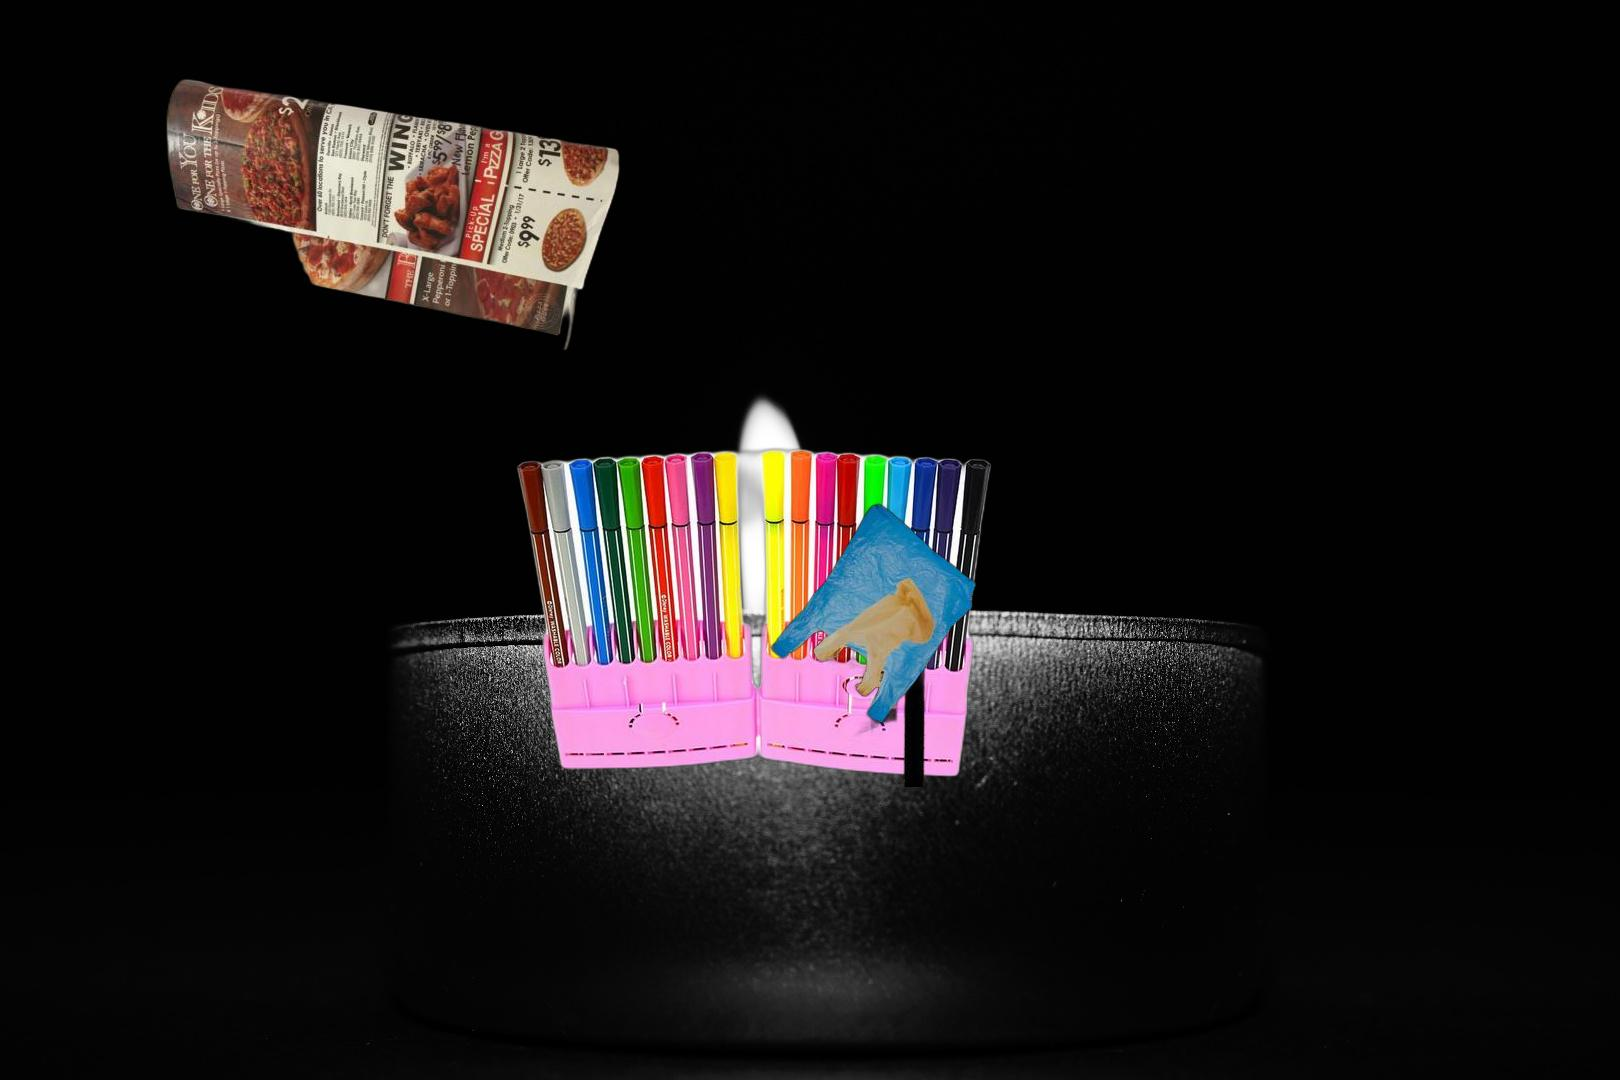paper: (162, 77, 625, 353)
penholder: (512, 444, 996, 781)
plastic-bag: (768, 497, 979, 787)
